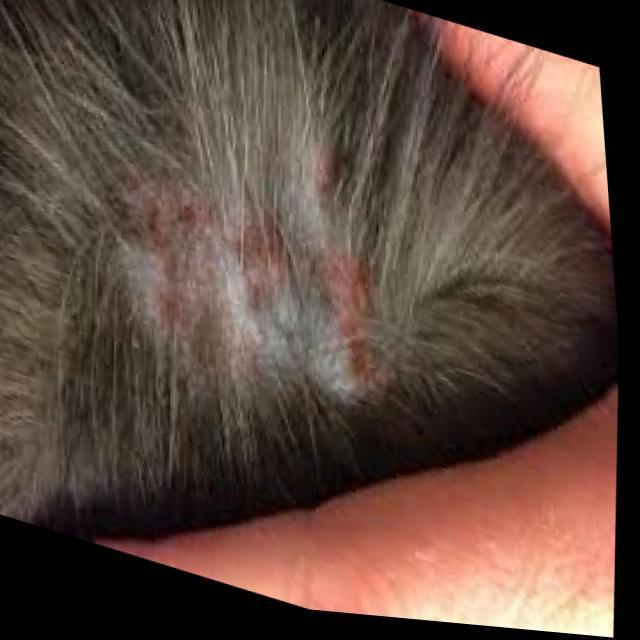allergic dermatitis: (91, 106, 397, 405)
